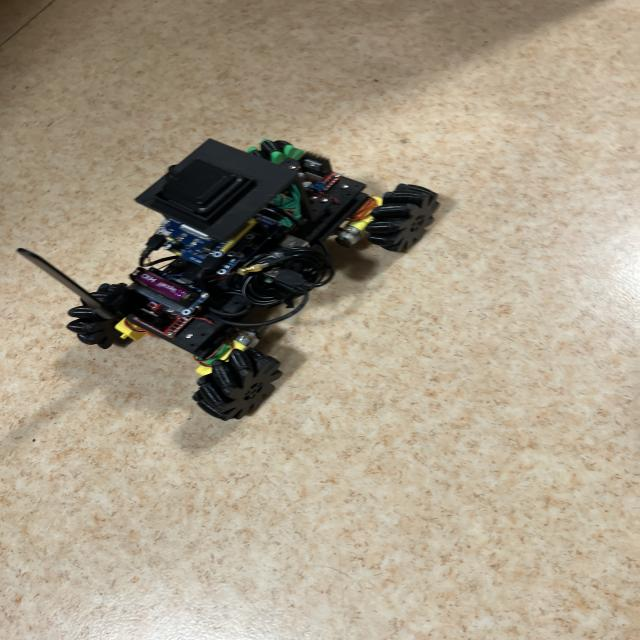robot: (18, 140, 438, 420)
